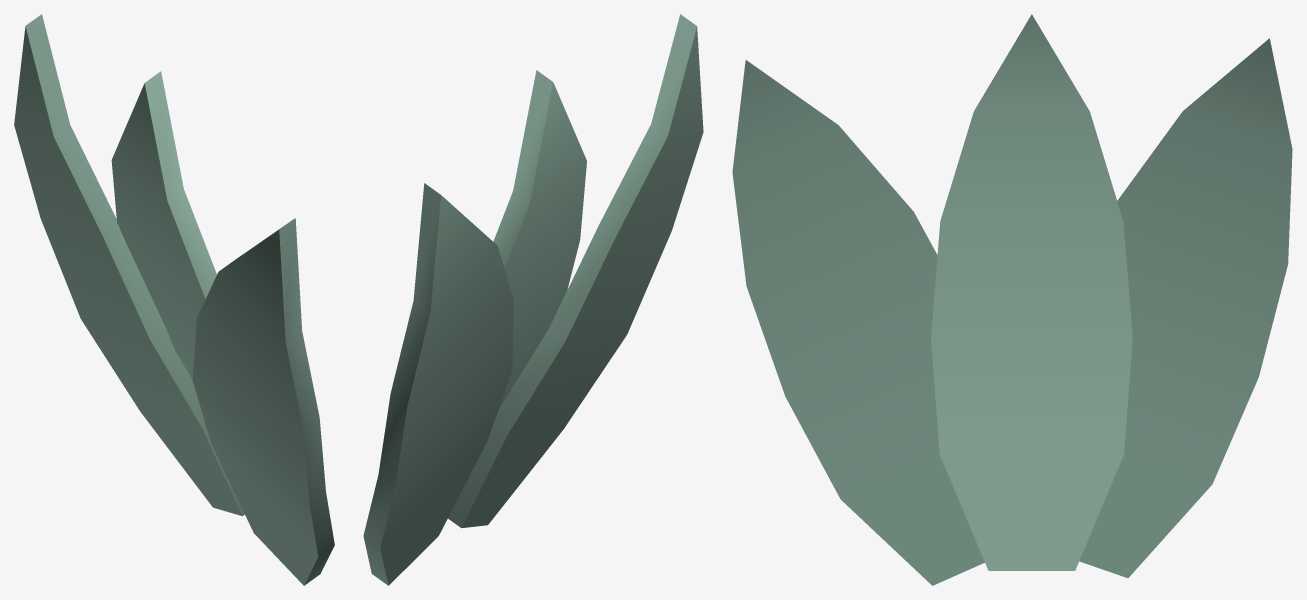
File: Green Grass.fbx
3 renders of one model, left to right at view 1: azimuth 30°, elevation 25°; view 2: azimuth 150°, elevation 25°; view 3: azimuth 270°, elevation 25°, orthographic. The views are drawn at different scales.
Visible parts, largest first — view 1: pCube2, pCube3, pCube1; view 2: pCube3, pCube2, pCube1; view 3: pCube1, pCube2, pCube3.
Boxes of the visible parts, <box> form: pCube2: <box>192,218,334,585</box>; pCube3: <box>14,14,244,516</box>; pCube1: <box>111,71,216,379</box>; pCube3: <box>363,183,513,585</box>; pCube2: <box>448,14,703,528</box>; pCube1: <box>493,70,586,410</box>; pCube1: <box>931,14,1132,570</box>; pCube2: <box>732,60,984,585</box>; pCube3: <box>1079,38,1292,577</box>.
Size of the model in its own units: 0.489 by 1.46 by 1.42.
